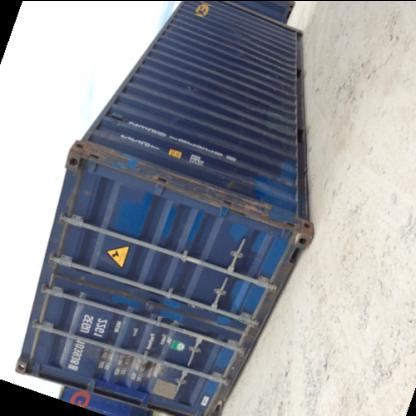Damage: (67, 139, 191, 194), (188, 179, 270, 215)
